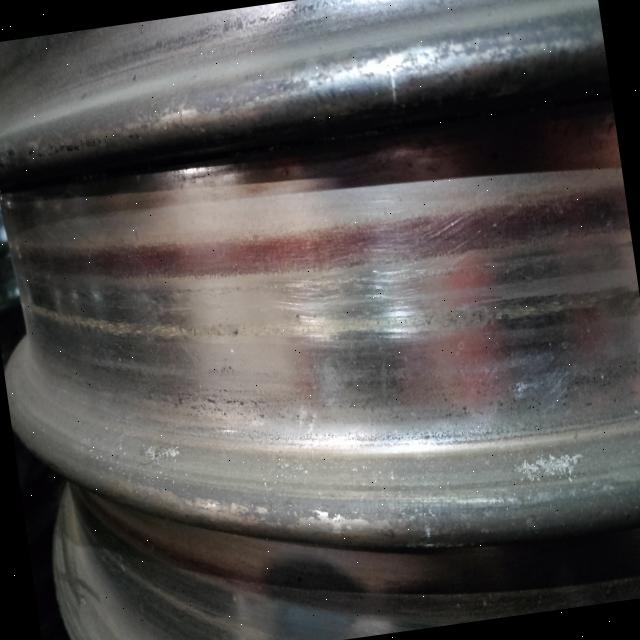Peeling: (19, 258, 239, 410), (130, 429, 195, 476)
flat: (238, 212, 606, 378)
